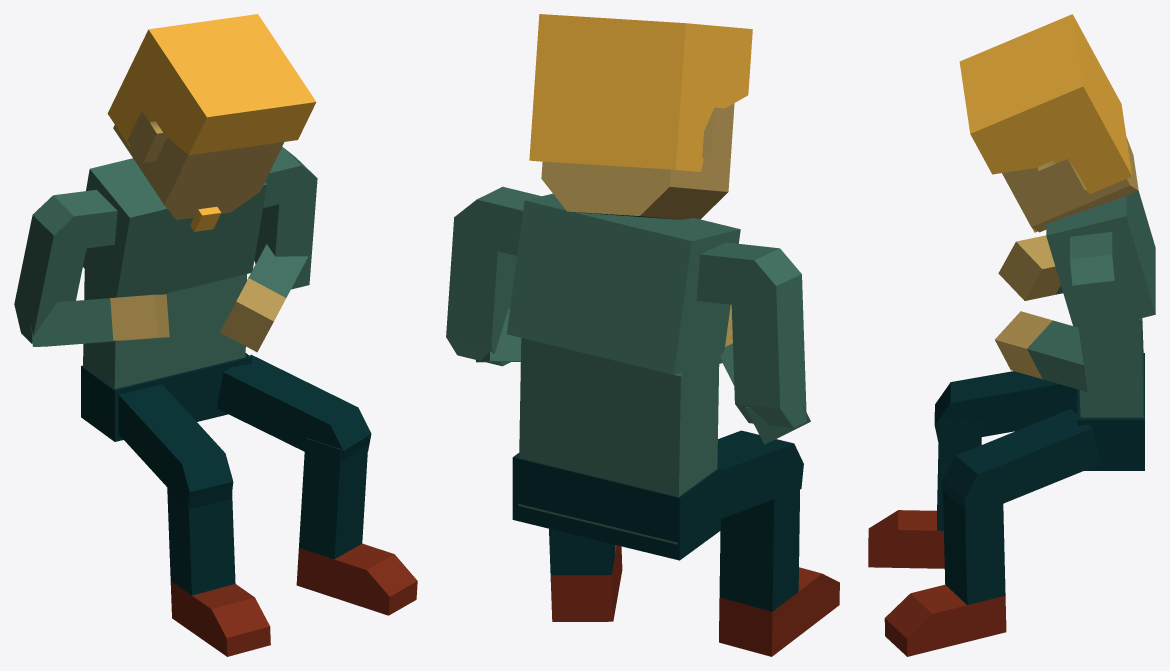
Rendered from guitarGuyPoses_geo.fbx.
3 renders of one model, left to right at view 1: azimuth 30°, elevation 25°; view 2: azimuth 150°, elevation 25°; view 3: azimuth 270°, elevation 25°, orthographic. The views are drawn at different scales.
Visible parts, largest first — view 1: head, chest, stomach, l_upperarm, r_upperleg1, r_upperleg, r_lowerleg, r_shoe, r_lowerleg1, l_forearm1, l_upperarm1, r_shoe1 (+2 smaller); view 2: head, chest, stomach, l_upperarm, butt, l_upperarm1, r_lowerleg1, r_shoe1, r_upperleg, r_shoe, r_lowerleg, l_forearm1 (+1 smaller); view 3: head, r_upperleg1, chest, l_upperarm1, r_upperleg, r_shoe, r_lowerleg, l_forearm, r_shoe1, butt, stomach, l_forearm1 (+1 smaller).
Boxes of the visible parts, x1,y1,x2,y2 form: head: (107,14,316,219); chest: (83,158,266,298); stomach: (83,269,246,389); l_upperarm: (14,189,117,343); r_upperleg1: (217,354,371,461); r_upperleg: (118,384,233,509); r_lowerleg: (299,438,368,559); r_shoe: (296,543,417,615); r_lowerleg1: (167,474,235,595); l_forearm1: (31,294,169,346); l_upperarm1: (254,146,317,289); r_shoe1: (170,581,270,656); head: (529,14,752,219); chest: (506,193,740,374); stomach: (518,338,719,544); l_upperarm: (696,242,806,427); butt: (512,453,720,560); l_upperarm1: (446,186,541,366); r_lowerleg1: (719,489,799,611); r_shoe1: (719,567,839,656); r_upperleg: (717,430,803,518); r_shoe: (550,545,622,621); r_lowerleg: (549,528,614,575); l_forearm1: (720,304,810,444); head: (959,14,1138,232); r_upperleg1: (941,409,1099,517); chest: (1046,191,1155,327); l_upperarm1: (1070,232,1127,397); r_upperleg: (934,371,1077,444); r_shoe: (884,584,1006,656); r_lowerleg: (942,478,1005,604); l_forearm: (995,311,1087,391); r_shoe1: (868,510,944,568); butt: (1077,353,1144,470); stomach: (1079,318,1143,417); l_forearm1: (998,235,1062,300).
Size of the model in its own units: 265 by 476 by 224.
